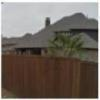chimneys: (44, 16, 52, 29)
